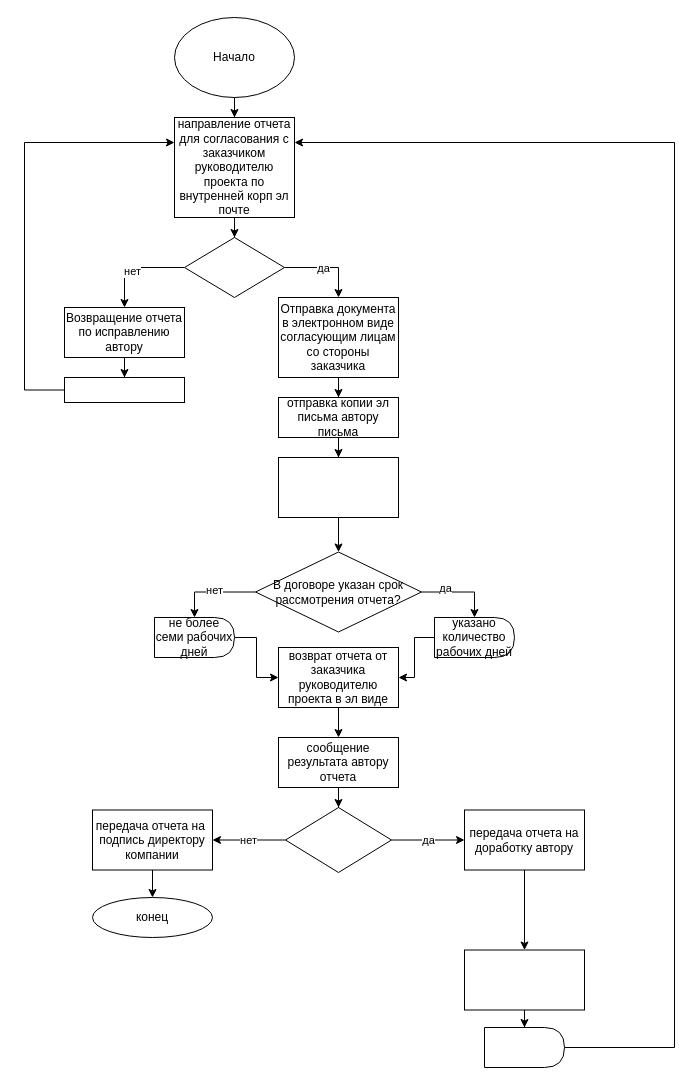
Some shapes in this 700 by 1086 pixel diagram are drawn without their labels. The centre of each missing label's shape, as x and y in pixels:
в течении пяти рабочих дней: pixel 524 1047
есть замечания?: pixel 338 839
исправление отчета: pixel 124 389
Отчет оформлен корректно?: pixel 234 267
рассмотрение отчета в срок: pixel 338 487
устранение всех замечаний: pixel 524 979
